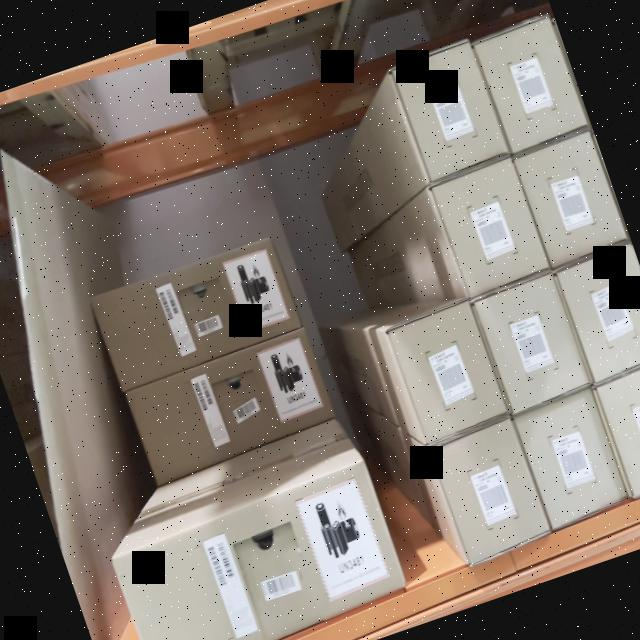box: (113, 472, 406, 640), (91, 237, 302, 389), (127, 330, 335, 478), (387, 300, 508, 442), (428, 156, 549, 294), (472, 272, 590, 413), (430, 424, 550, 560), (473, 17, 590, 154), (391, 42, 506, 180), (514, 132, 626, 266), (513, 392, 626, 521), (555, 247, 640, 377), (592, 357, 640, 493)
